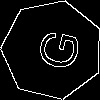G: (27, 25, 82, 73)
